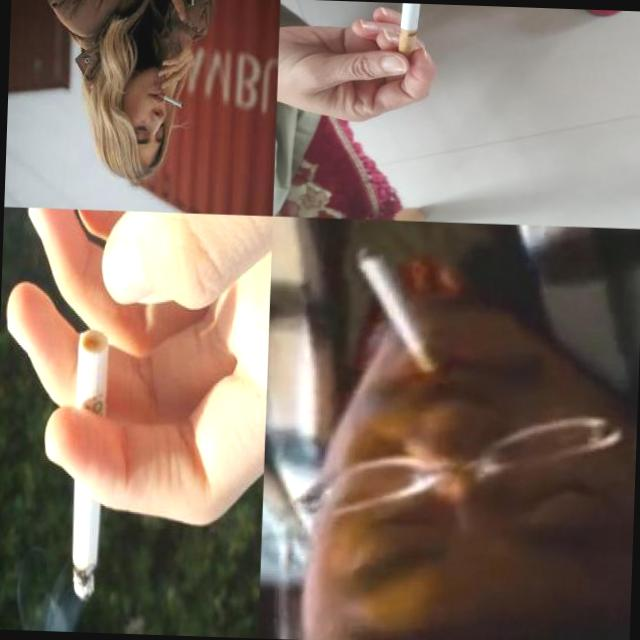smoke: (342, 246, 448, 390), (67, 330, 110, 604), (396, 3, 428, 60), (158, 92, 185, 108)
